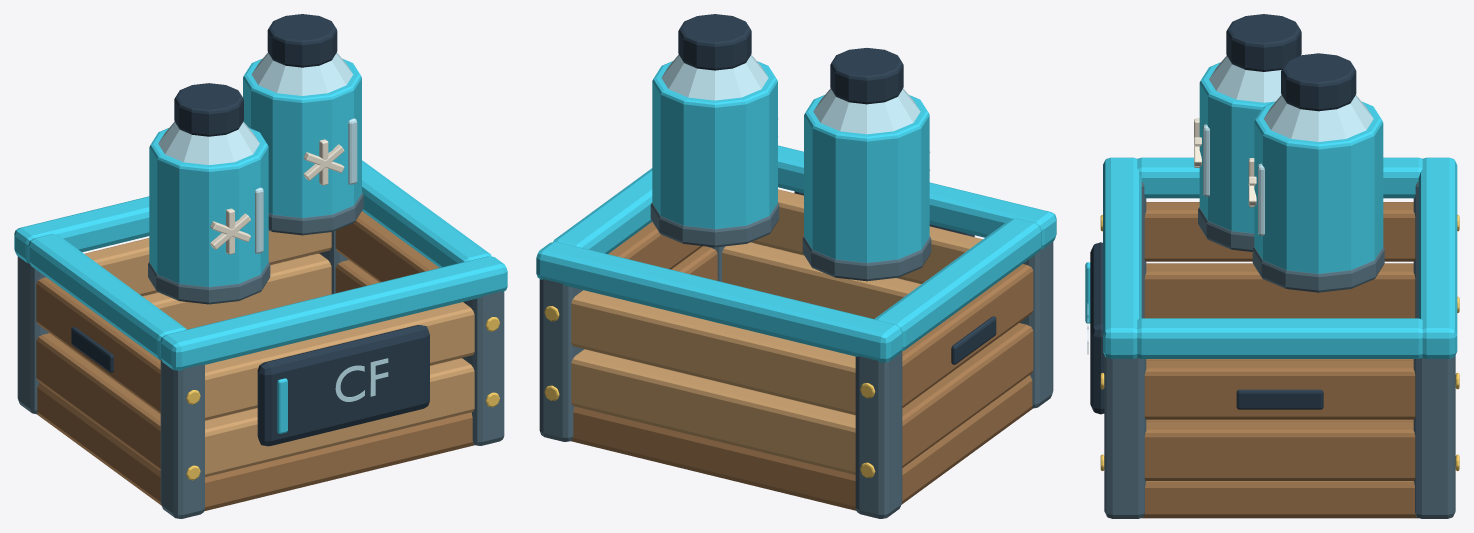
The model's file is cooling_fluid.glb.
The picture shows the model from 3 angles, left to right: view 1: azimuth 30°, elevation 25°; view 2: azimuth 150°, elevation 25°; view 3: azimuth 270°, elevation 25°; orthographic projection. The views are drawn at different scales.
Parts seen in each view (by area): view 1: Colored rim.016, Front sign.004, Coolant canister, Solid crate floor.004, Coolant canister.001, Horizontal wood plank.016, Horizontal wood plank.018, Side wood plank.016, Colored rim.018, Reinforced corner.016, Side wood plank.018, Colored rim.019 (+18 smaller); view 2: Horizontal wood plank.017, Horizontal wood plank.019, Coolant canister.001, Coolant canister, Colored rim.017, Solid crate floor.004, Side wood plank.016, Colored rim.018, Horizontal wood plank.016, Reinforced corner.017, Side wood plank.018, Colored rim.016 (+13 smaller); view 3: Coolant canister.001, Side wood plank.017, Side wood plank.019, Side wood plank.016, Colored rim.019, Solid crate floor.004, Colored rim.017, Colored rim.016, Coolant canister, Reinforced corner.018, Reinforced corner.019, Side wood plank.018 (+13 smaller).
Part boxes in pixels (x1=…): Colored rim.016: x1=160, y1=256, x2=507, y2=370; Front sign.004: x1=257, y1=325, x2=429, y2=446; Coolant canister: x1=149, y1=128, x2=268, y2=286; Solid crate floor.004: x1=37, y1=382, x2=474, y2=511; Coolant canister.001: x1=243, y1=58, x2=361, y2=217; Horizontal wood plank.016: x1=205, y1=358, x2=474, y2=477; Horizontal wood plank.018: x1=205, y1=302, x2=474, y2=420; Side wood plank.016: x1=36, y1=333, x2=160, y2=470; Colored rim.018: x1=28, y1=234, x2=186, y2=359; Reinforced corner.016: x1=160, y1=360, x2=204, y2=518; Side wood plank.018: x1=36, y1=277, x2=160, y2=413; Colored rim.019: x1=362, y1=160, x2=491, y2=267; Horizontal wood plank.017: x1=571, y1=349, x2=855, y2=474; Horizontal wood plank.019: x1=571, y1=290, x2=855, y2=414; Coolant canister.001: x1=652, y1=61, x2=777, y2=229; Coolant canister: x1=804, y1=95, x2=929, y2=262; Colored rim.017: x1=536, y1=242, x2=902, y2=362; Solid crate floor.004: x1=571, y1=375, x2=1032, y2=510; Side wood plank.016: x1=902, y1=323, x2=1033, y2=467; Colored rim.018: x1=875, y1=218, x2=1041, y2=351; Horizontal wood plank.016: x1=722, y1=242, x2=921, y2=318; Reinforced corner.017: x1=855, y1=351, x2=902, y2=518; Side wood plank.018: x1=902, y1=264, x2=1033, y2=407; Colored rim.016: x1=778, y1=145, x2=1056, y2=249; Coolant canister.001: x1=1254, y1=101, x2=1383, y2=273; Side wood plank.017: x1=1144, y1=421, x2=1415, y2=480; Side wood plank.019: x1=1144, y1=360, x2=1415, y2=419; Side wood plank.016: x1=1144, y1=263, x2=1415, y2=318; Colored rim.019: x1=1137, y1=318, x2=1422, y2=358; Solid crate floor.004: x1=1141, y1=359, x2=1418, y2=518; Colored rim.017: x1=1418, y1=157, x2=1457, y2=358; Colored rim.016: x1=1103, y1=157, x2=1141, y2=358; Coolant canister: x1=1199, y1=62, x2=1274, y2=233; Reinforced corner.018: x1=1104, y1=355, x2=1146, y2=518; Reinforced corner.019: x1=1413, y1=355, x2=1455, y2=518; Side wood plank.018: x1=1144, y1=202, x2=1415, y2=261.
Size of the model in its own units: 1.32 by 1.37 by 1.16.
